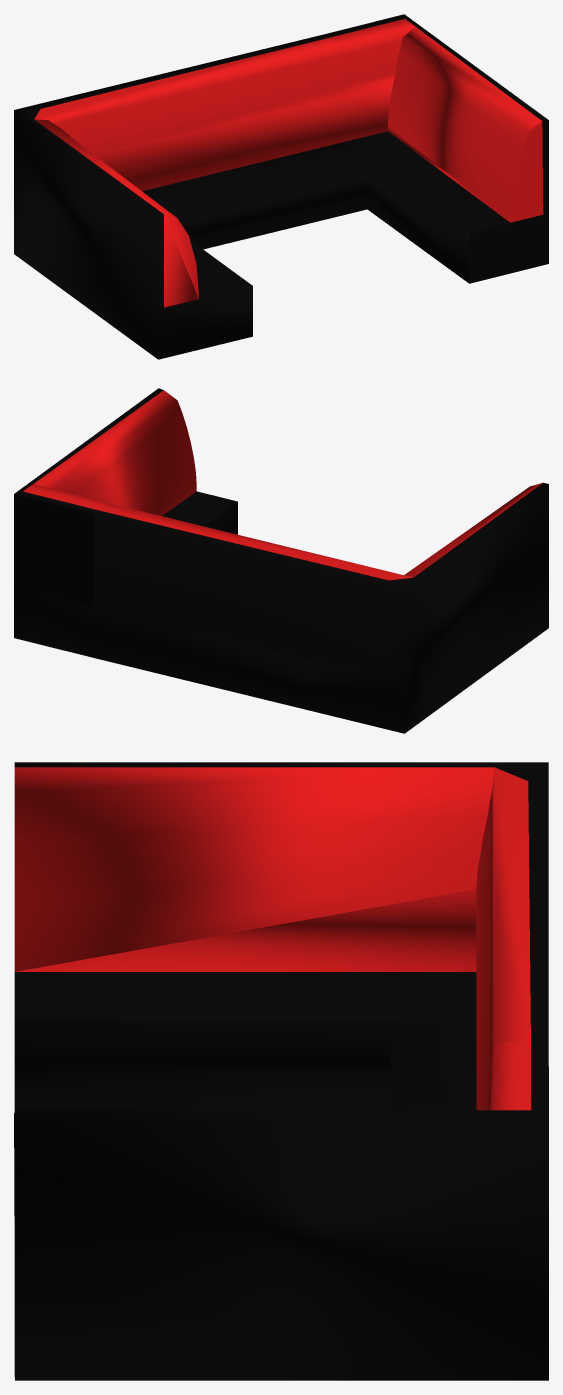
File: PizzaChairs 2.fbx
3 views of the same model, one above another, from view 1: azimuth 30°, elevation 25°; view 2: azimuth 150°, elevation 25°; view 3: azimuth 270°, elevation 25° (orthographic). The views are drawn at different scales.
Parts seen in each view (by area): view 1: Cube; view 2: Cube; view 3: Cube.
Part boxes in pixels (x1,y1,x2,y2): Cube: [14, 14, 548, 359]; Cube: [14, 388, 548, 733]; Cube: [14, 762, 548, 1380].
Size of the model in its own units: 1614 by 571 by 1035.
